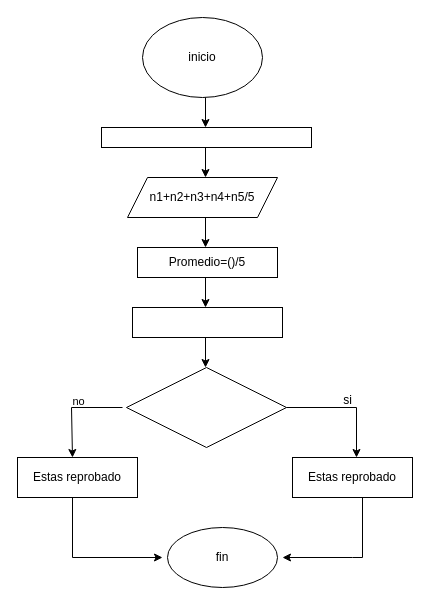
This 430x605 diagram has some shape labels left out. Here are the shapes that lost their labels. From the top down, the centre of each, then its label:
(x=206, y=137): "Ingresa n1,n2,n3,n4,n5"
(x=207, y=322): "Tu promedio final es de:"
(x=206, y=407): promedio>=7
